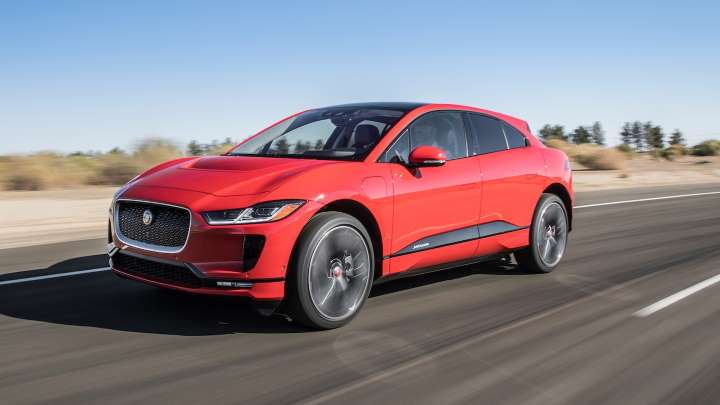car: (106, 100, 576, 289)
